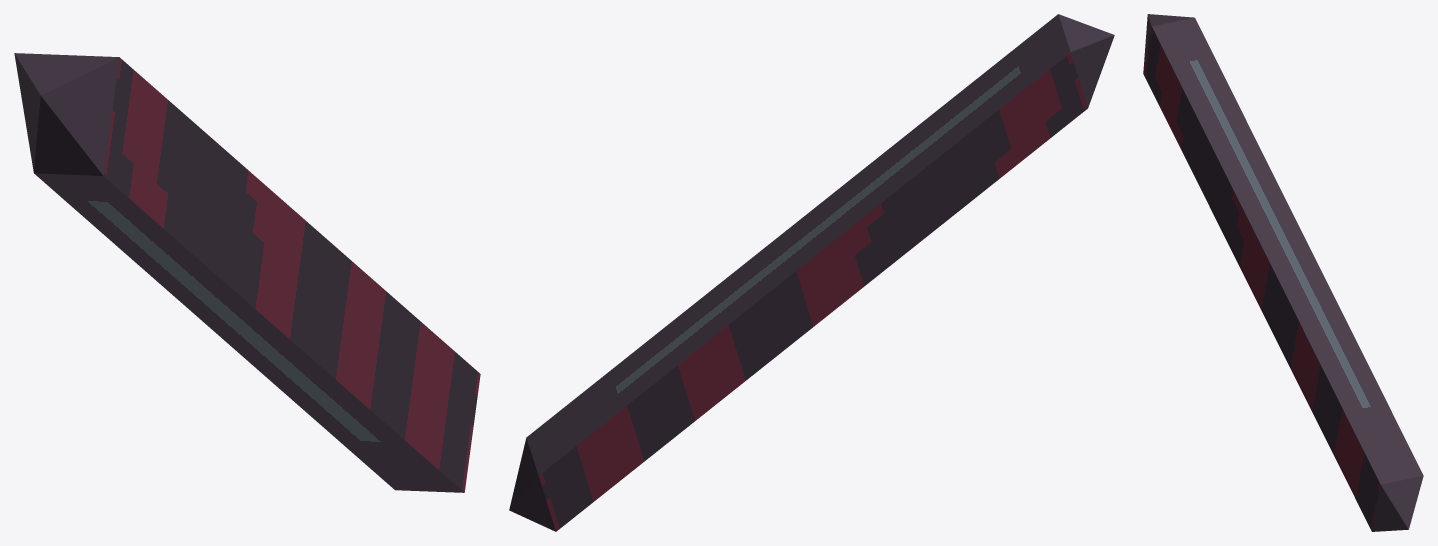
Rendered from mantis_shin.glb.
3 views of the same model, side by side, from view 1: azimuth 30°, elevation 25°; view 2: azimuth 150°, elevation 25°; view 3: azimuth 270°, elevation 25° (orthographic). The views are drawn at different scales.
Parts seen in each view (by area): view 1: Cube.141; view 2: Cube.141; view 3: Cube.141.
Boxes of the visible parts, left/top/right/bottom form: Cube.141: left=14, top=53, right=480, bottom=492; Cube.141: left=509, top=14, right=1114, bottom=531; Cube.141: left=1143, top=14, right=1423, bottom=531.
Bounding box in the file's own units: 1.76 × 1.86 × 1.27.
1 material, 1 textured.
